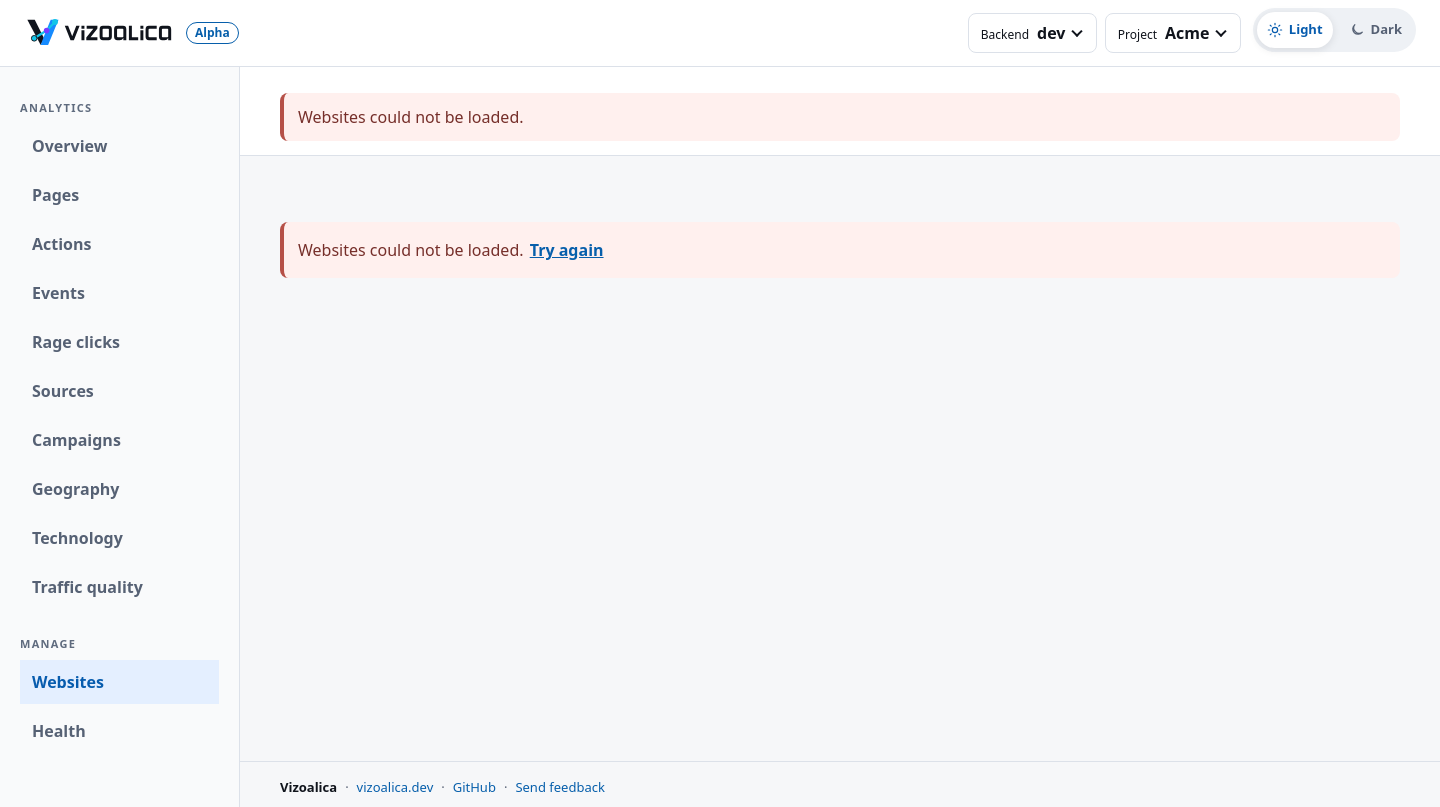
Scenario: website page › shows a busy state, then an error with retry, when the list cannot load
Click the button "Try again" at (567,250), box [528,234,606,266]
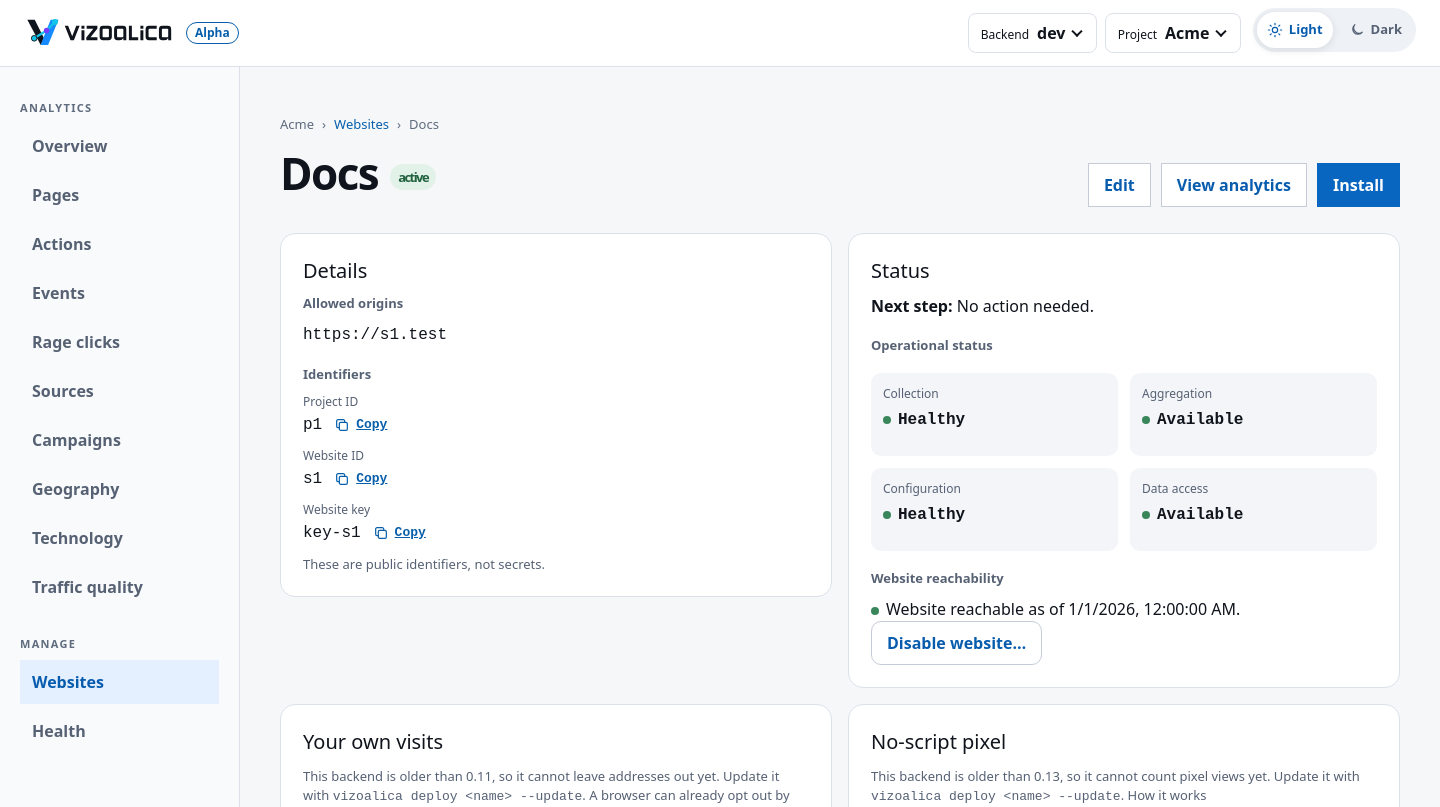
Result: the heading "Docs" is shown at [280,148,436,197]
